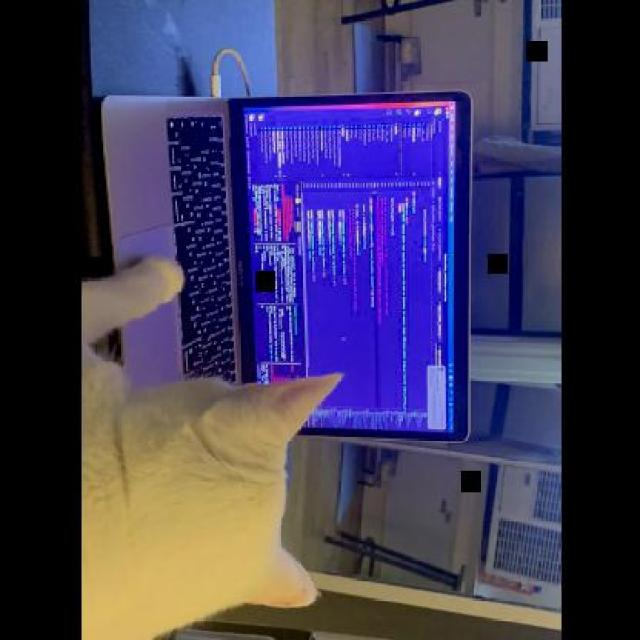unauthorized: (80, 252, 345, 638)
